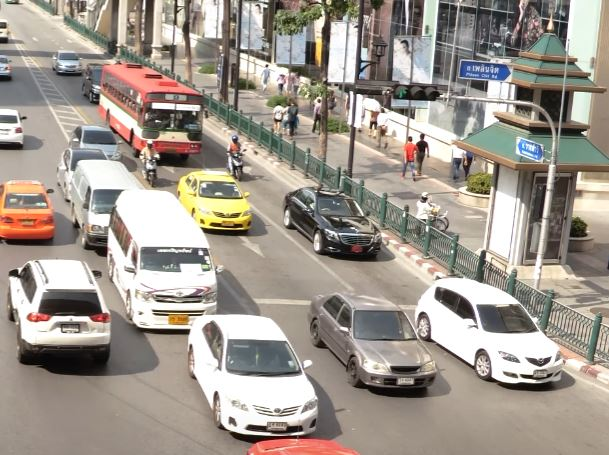Bus: (106, 188, 225, 331), (98, 62, 209, 159), (68, 158, 141, 249)
Car: (414, 275, 567, 387), (186, 312, 320, 438), (307, 290, 437, 391), (7, 258, 111, 366), (281, 185, 384, 260), (177, 168, 253, 233), (1, 176, 55, 244), (58, 148, 109, 197), (70, 124, 123, 159), (1, 107, 28, 147), (82, 63, 103, 105), (52, 49, 84, 74)
Motorcycle: (140, 138, 161, 187), (226, 134, 245, 182)
